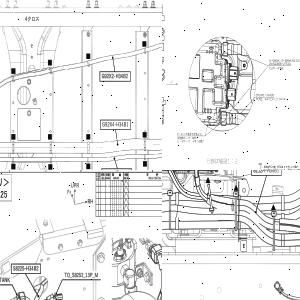PartNumber: (101, 73, 129, 80), (12, 265, 39, 272), (102, 121, 129, 127), (255, 92, 275, 97), (273, 62, 291, 65), (253, 170, 279, 172)
